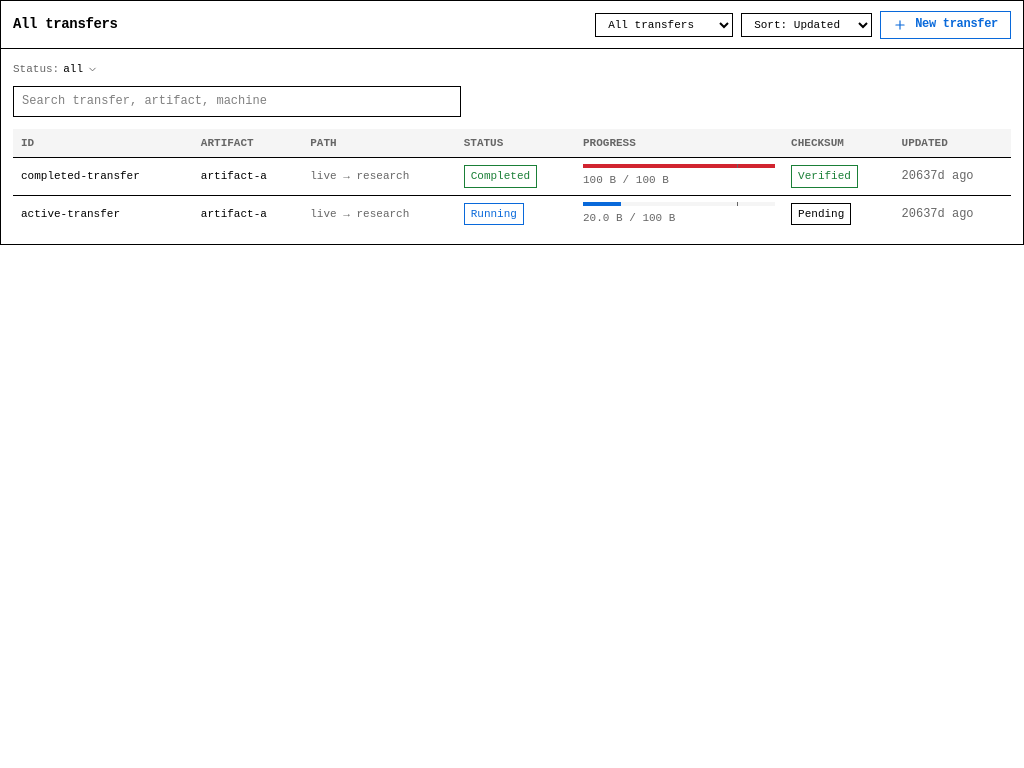
ResearchTransfersPage › explains when no artifacts are transferable
This screenshot has width=1024, height=768.
Step 1. Click the button "New transfer" → (946, 24), box [880,10,1011,38]
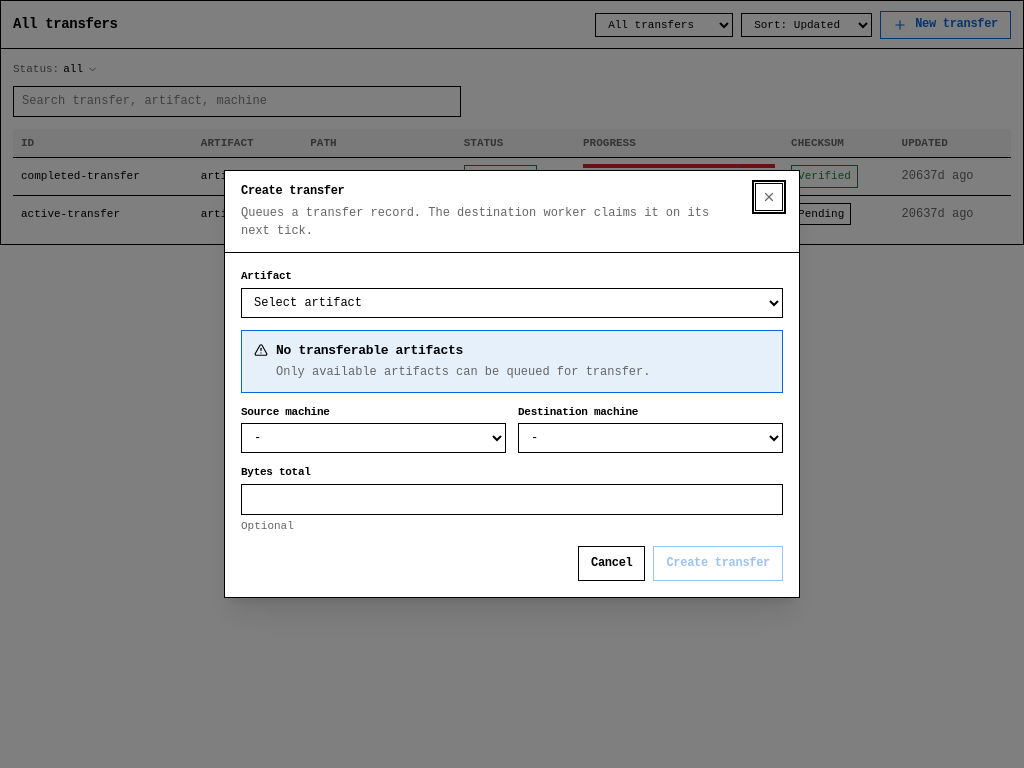
Expected: the dialog is shown, [224,170,800,598]
Expected: the text "No transferable artifacts" is shown, [276,343,463,358]
Expected: the button "Create transfer" is disabled, [654,546,783,581]
